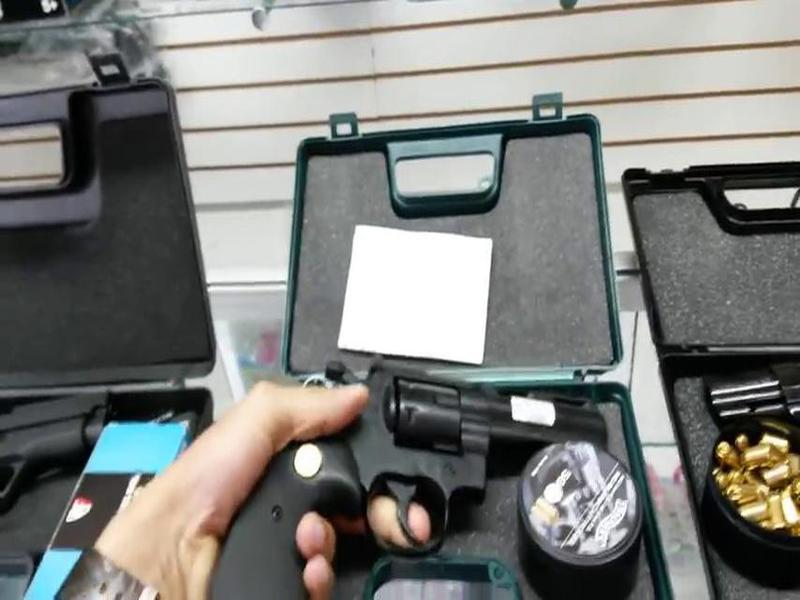Revolver: (185, 308, 630, 600)
